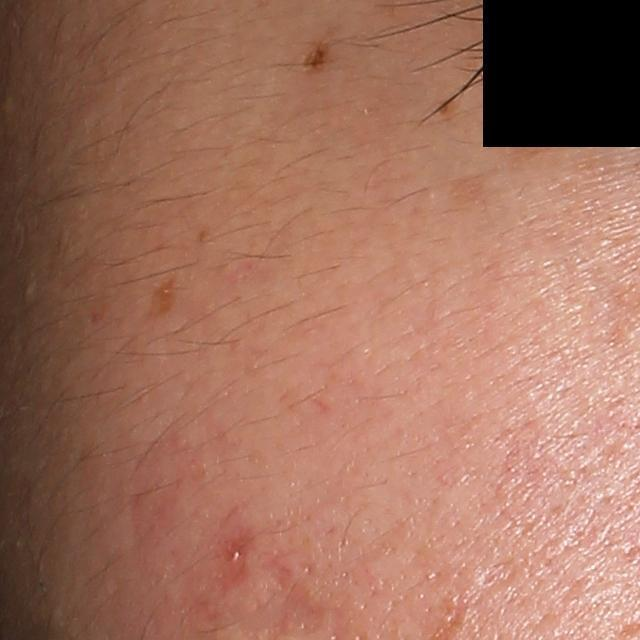melasma: (509, 121, 562, 161), (145, 273, 179, 317), (450, 173, 489, 208)
nevus: (293, 45, 331, 74)
